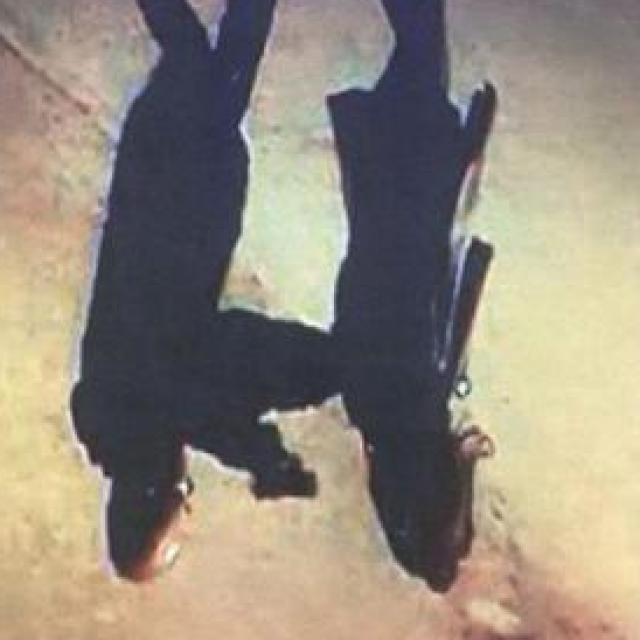pistol: (244, 422, 327, 509)
